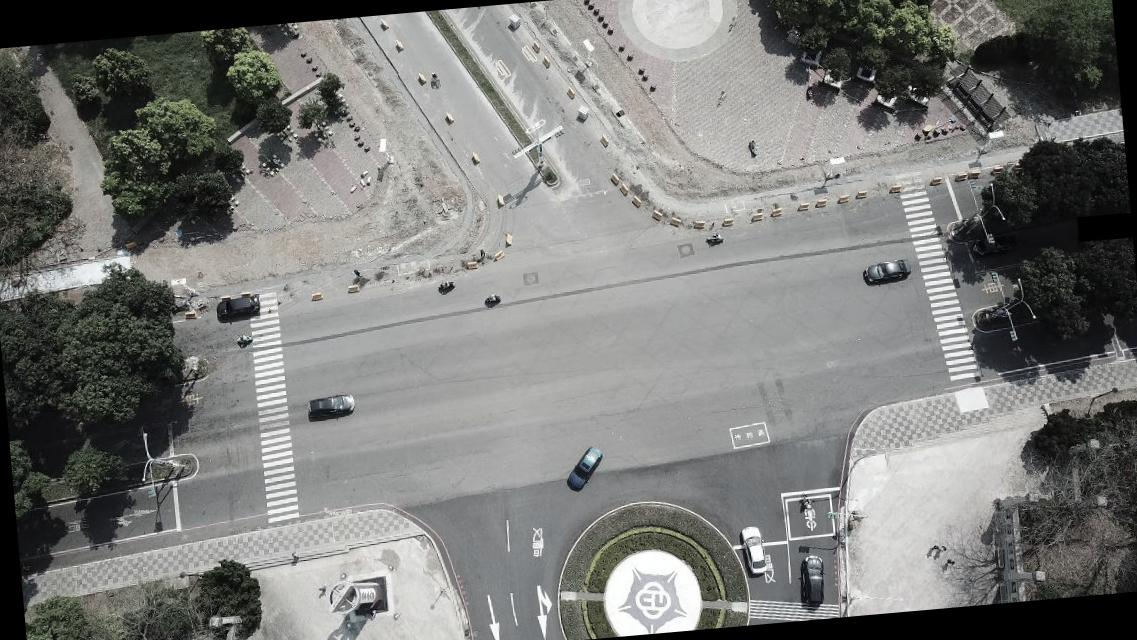vehicle: (562, 446, 606, 491), (795, 554, 825, 610), (859, 258, 911, 287), (738, 526, 766, 579), (306, 393, 354, 421), (214, 295, 260, 324)
